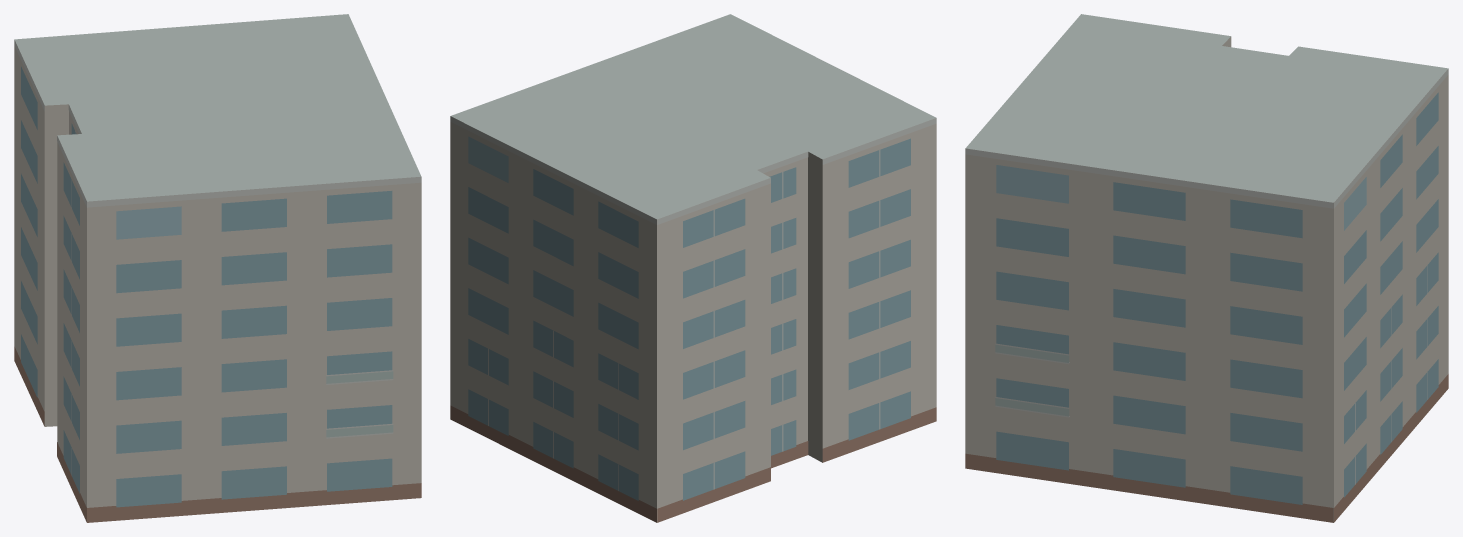
Rendered from survey-upis-32851872.glb.
3 views of the same model, side by side, from view 1: azimuth 30°, elevation 25°; view 2: azimuth 150°, elevation 25°; view 3: azimuth 270°, elevation 25° (orthographic). The views are drawn at different scales.
Visible parts, largest first — view 1: survey-upis-32851872.tmp; view 2: survey-upis-32851872.tmp; view 3: survey-upis-32851872.tmp.
Boxes of the visible parts, box(x1,y1,x2,y2) form: survey-upis-32851872.tmp: box(14, 14, 421, 522); survey-upis-32851872.tmp: box(450, 14, 936, 522); survey-upis-32851872.tmp: box(965, 14, 1448, 522).
Size of the model in its own units: 16.58 by 13.1 by 17.93.
